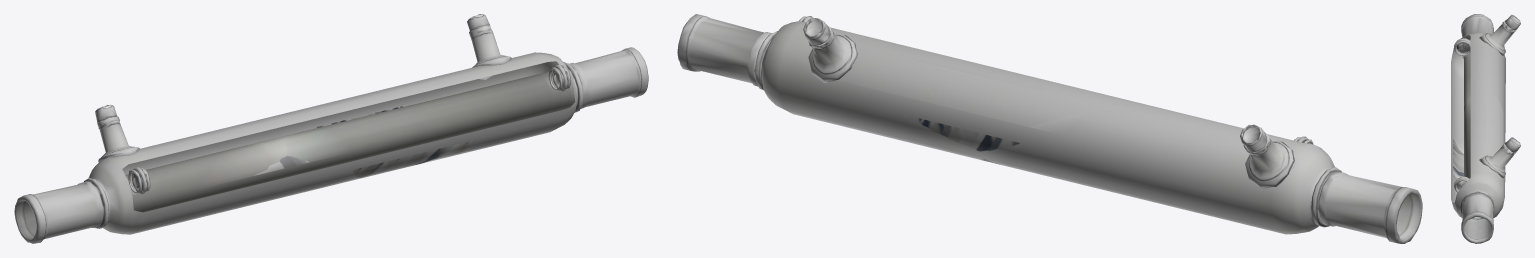
Rendered from selected.glb.
The picture shows the model from 3 angles, left to right: view 1: azimuth 30°, elevation 25°; view 2: azimuth 150°, elevation 25°; view 3: azimuth 270°, elevation 25°; orthographic projection. The views are drawn at different scales.
Visible parts, largest first — view 1: tripo_node_e57f90c8-a0bc-4d7d-8111-677eeb745eaa; view 2: tripo_node_e57f90c8-a0bc-4d7d-8111-677eeb745eaa; view 3: tripo_node_e57f90c8-a0bc-4d7d-8111-677eeb745eaa.
Boxes of the visible parts, <box> form: tripo_node_e57f90c8-a0bc-4d7d-8111-677eeb745eaa: <box>14,14,648,243</box>; tripo_node_e57f90c8-a0bc-4d7d-8111-677eeb745eaa: <box>677,14,1422,243</box>; tripo_node_e57f90c8-a0bc-4d7d-8111-677eeb745eaa: <box>1451,14,1520,243</box>.
Size of the model in its own units: 0.998 by 0.166 by 0.1465.
1 material, 1 textured.
